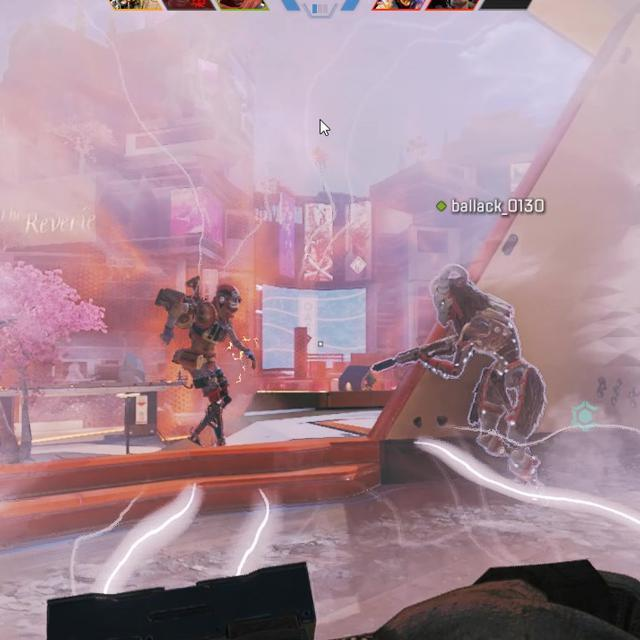avatar: (430, 267, 546, 492), (174, 280, 244, 449)
